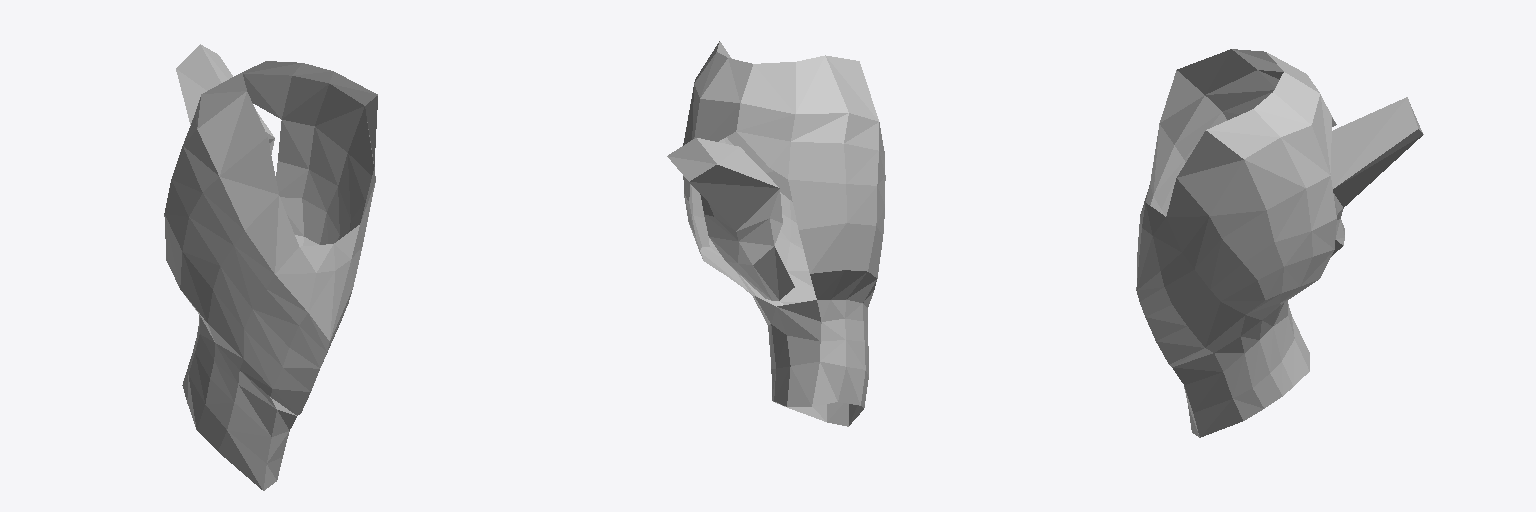
Rendered from first_partBoots_Polish.OBJ.
3 views of the same model, side by side, from view 1: azimuth 30°, elevation 25°; view 2: azimuth 150°, elevation 25°; view 3: azimuth 270°, elevation 25° (orthographic).
Size of the model in its own units: 11.11 by 22.64 by 15.18.